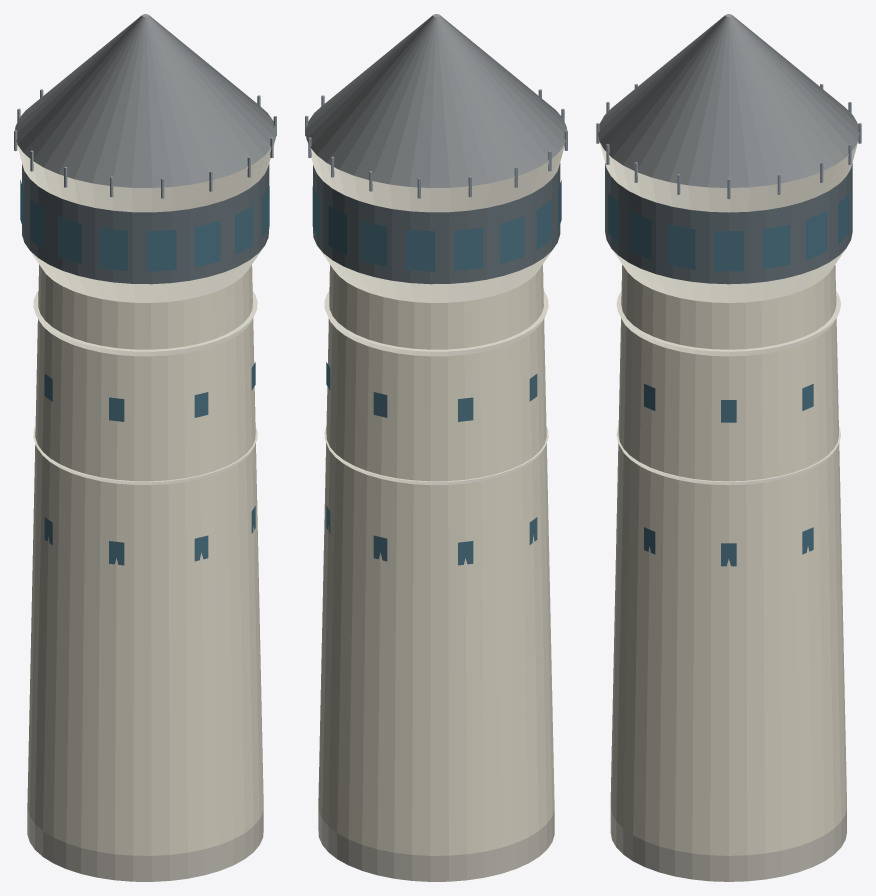
The picture shows the model from 3 angles, left to right: view 1: azimuth 30°, elevation 25°; view 2: azimuth 150°, elevation 25°; view 3: azimuth 270°, elevation 25°; orthographic projection.
Visible parts, largest first — view 1: worldgen; view 2: worldgen; view 3: worldgen.
Boxes of the visible parts, x1,y1,x2,y2 form: worldgen: [14, 14, 276, 881]; worldgen: [305, 14, 567, 881]; worldgen: [596, 14, 861, 881].
Bounding box in the file's own units: 18.43 × 62.59 × 18.42.
